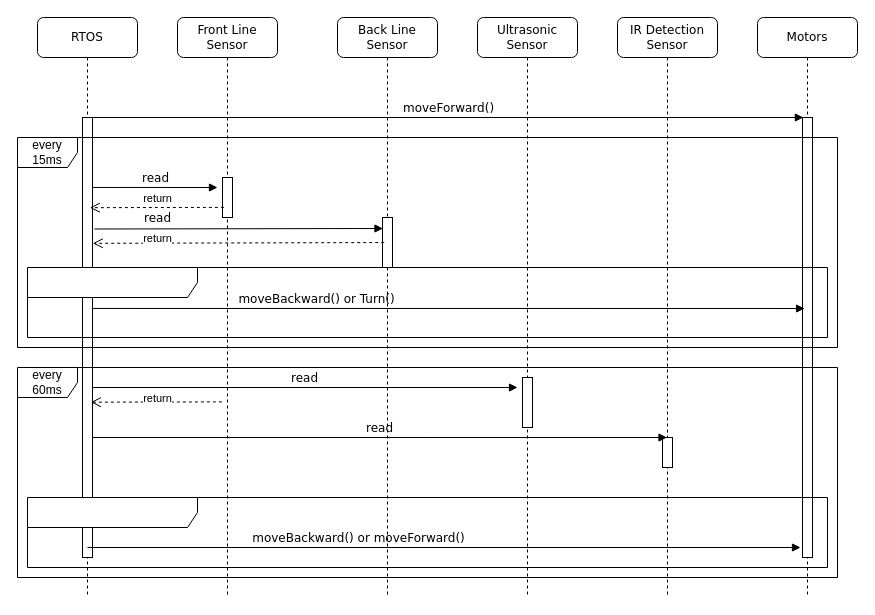
Image size: 875x615. Some labels were removed from this diagram. The box of each missing label's shape, as (x1, y1, x2, y2) in pixels:
[frontVal || backVal] > bound: (26, 266, 828, 338)
[smallObj || largeObj]: (26, 496, 828, 568)
